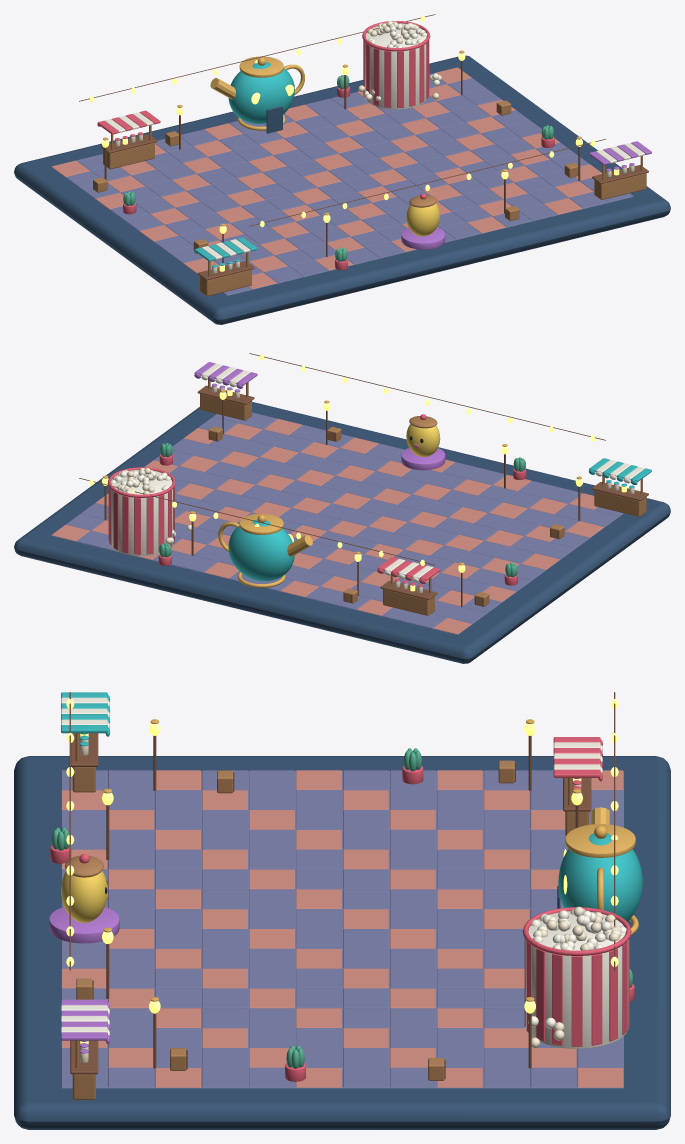
File: popcorn_market.glb
The picture shows the model from 3 angles, top to bottom: view 1: azimuth 30°, elevation 25°; view 2: azimuth 150°, elevation 25°; view 3: azimuth 270°, elevation 25°; orthographic projection. The views are drawn at different scales.
Parts seen in each view (by area): view 1: popcorn_market; view 2: popcorn_market; view 3: popcorn_market.
Boxes of the visible parts, x1,y1,x2,y2 form: popcorn_market: (14, 14, 670, 324); popcorn_market: (14, 353, 670, 663); popcorn_market: (14, 692, 670, 1129).
Bounding box in the file's own units: 36 × 6.65 × 28.
